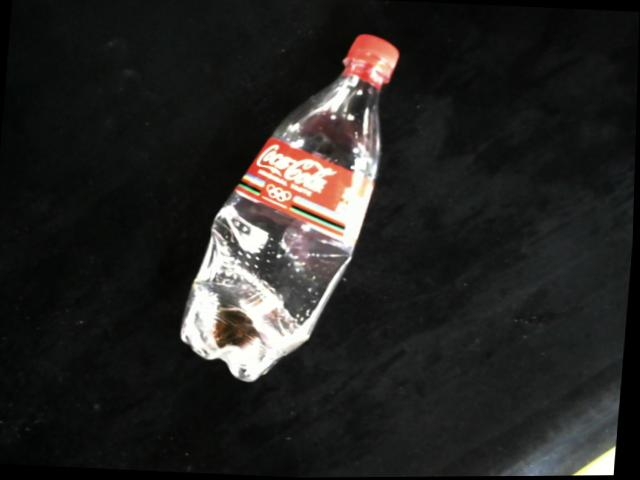bottle: (180, 34, 402, 385)
